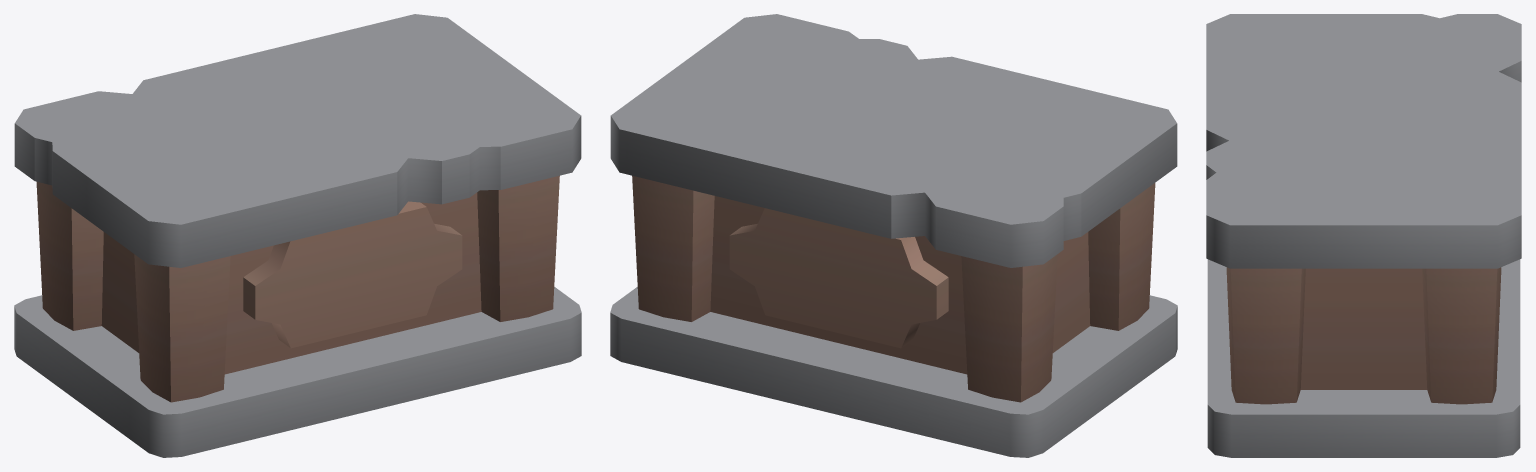
File: altar-wood.glb
3 views of the same model, side by side, from view 1: azimuth 30°, elevation 25°; view 2: azimuth 150°, elevation 25°; view 3: azimuth 270°, elevation 25° (orthographic).
Visible parts, largest first — view 1: altar-wood; view 2: altar-wood; view 3: altar-wood.
Part boxes in pixels (<box>): altar-wood: <box>14,14,581,457</box>; altar-wood: <box>610,14,1177,457</box>; altar-wood: <box>1206,14,1521,457</box>.
Bounding box in the file's own units: 1.57 × 0.8064 × 0.9881.
1 material, 1 textured.
